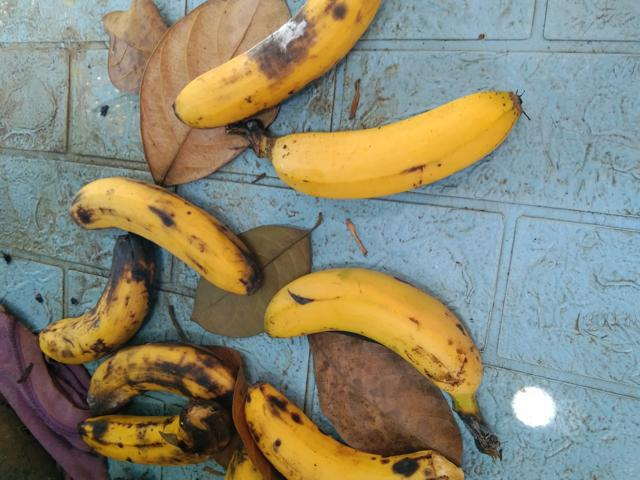freshripe: (267, 87, 541, 213)
ripe: (257, 265, 516, 424)
rotten: (163, 0, 378, 129), (69, 171, 269, 290), (18, 232, 164, 375), (71, 337, 235, 400), (75, 399, 229, 461)
